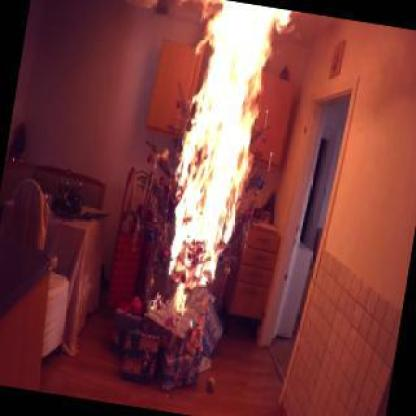Fire: (156, 1, 296, 324)
